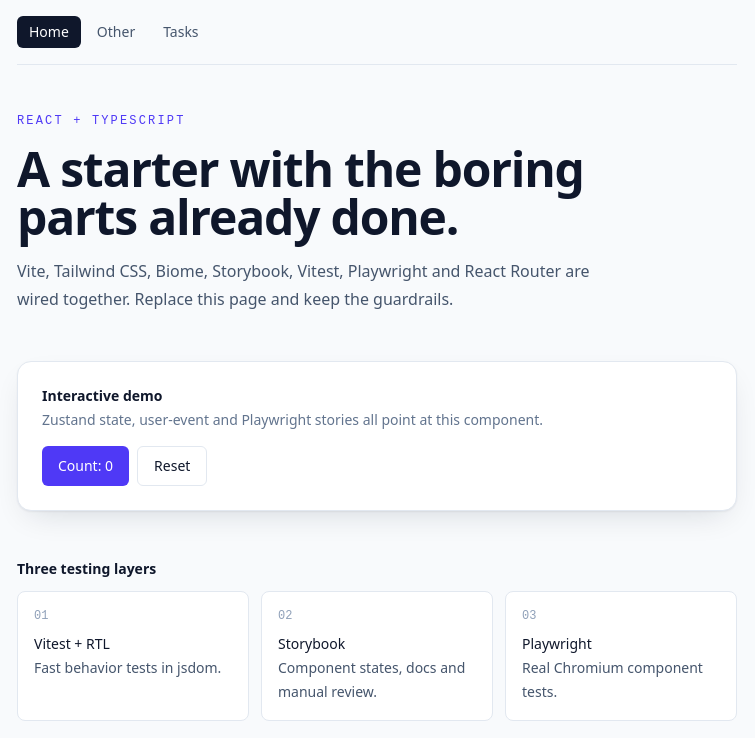
Test: App › increments and resets the counter
Click the button "Count: 0": (86, 466) [42,446,129,486]
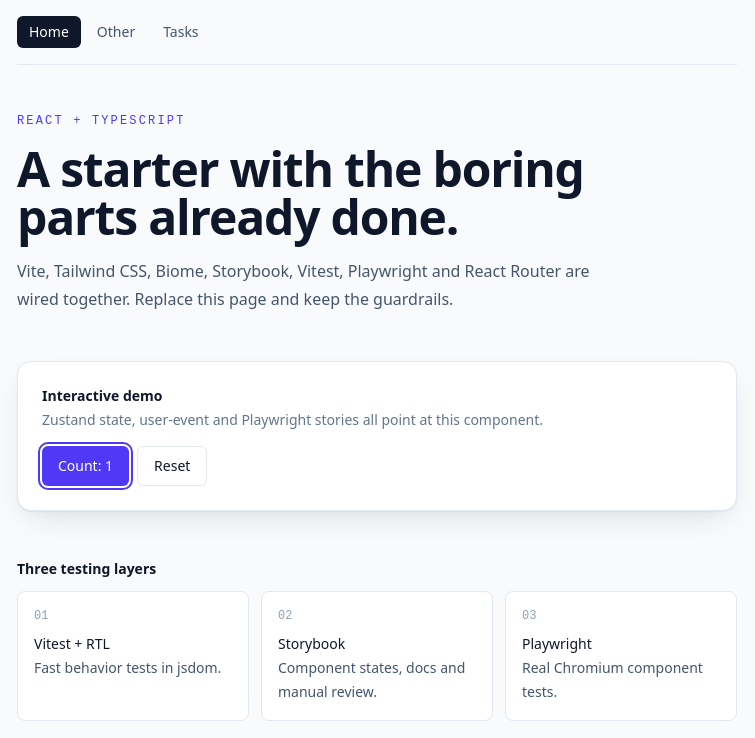
Now the button "Count: 1" is shown, box [42,446,129,486]
Click the button "Reset": (172, 466) [137,446,207,486]
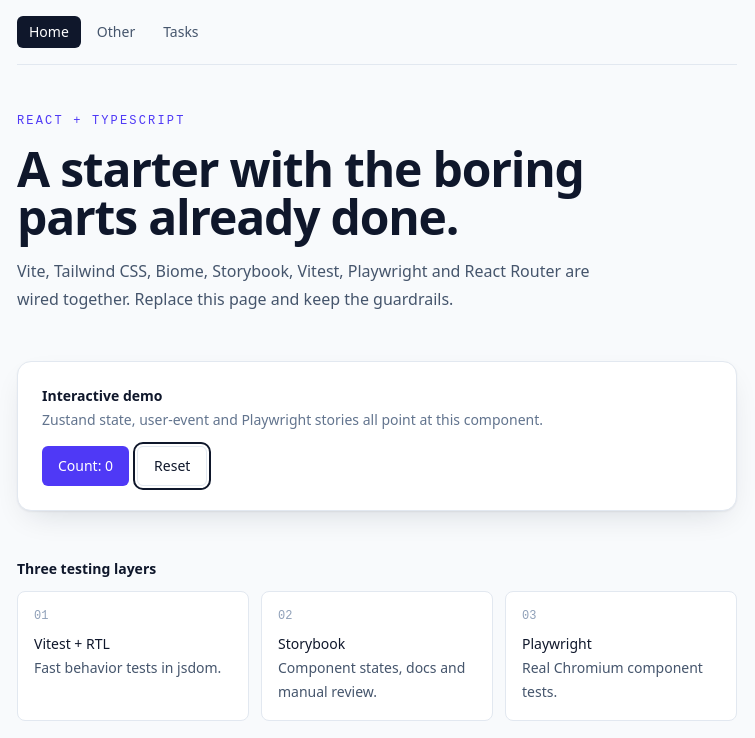
Now the button "Count: 0" is shown, box [42,446,129,486]
